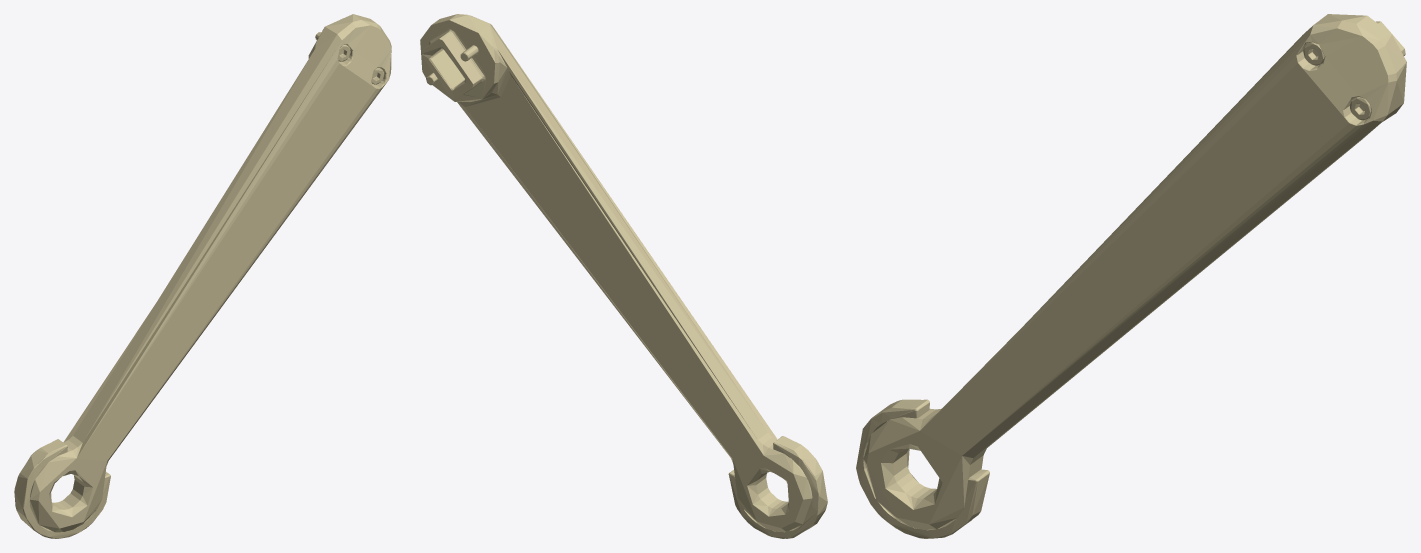
File: col_Lower_Leg_A.dae
3 views of the same model, side by side, from view 1: azimuth 30°, elevation 25°; view 2: azimuth 150°, elevation 25°; view 3: azimuth 330°, elevation 25° (orthographic). The views are drawn at different scales.
Parts seen in each view (by area): view 1: collision_Lower_Leg; view 2: collision_Lower_Leg; view 3: collision_Lower_Leg.
Part boxes in pixels (left/top/right/bottom): collision_Lower_Leg: left=14, top=14, right=391, bottom=538; collision_Lower_Leg: left=420, top=14, right=827, bottom=538; collision_Lower_Leg: left=856, top=14, right=1406, bottom=538.
Size of the model in its own units: 0.1354 by 0.02 by 0.149.
